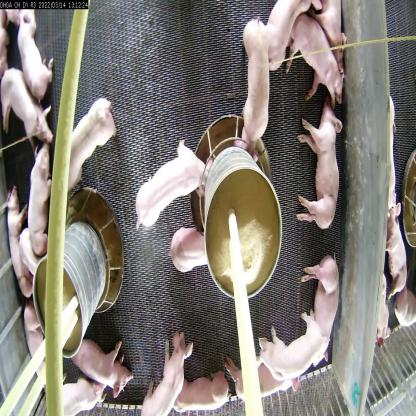Pig: (135, 142, 207, 235), (298, 110, 343, 246), (0, 70, 53, 185), (239, 15, 280, 149), (56, 86, 114, 180), (245, 0, 320, 68), (299, 266, 351, 364), (137, 331, 196, 415), (19, 141, 61, 255), (260, 326, 329, 393), (293, 27, 348, 111), (231, 349, 301, 410), (18, 18, 61, 110), (165, 213, 216, 290), (71, 339, 136, 398), (6, 187, 32, 306), (181, 362, 236, 415)
